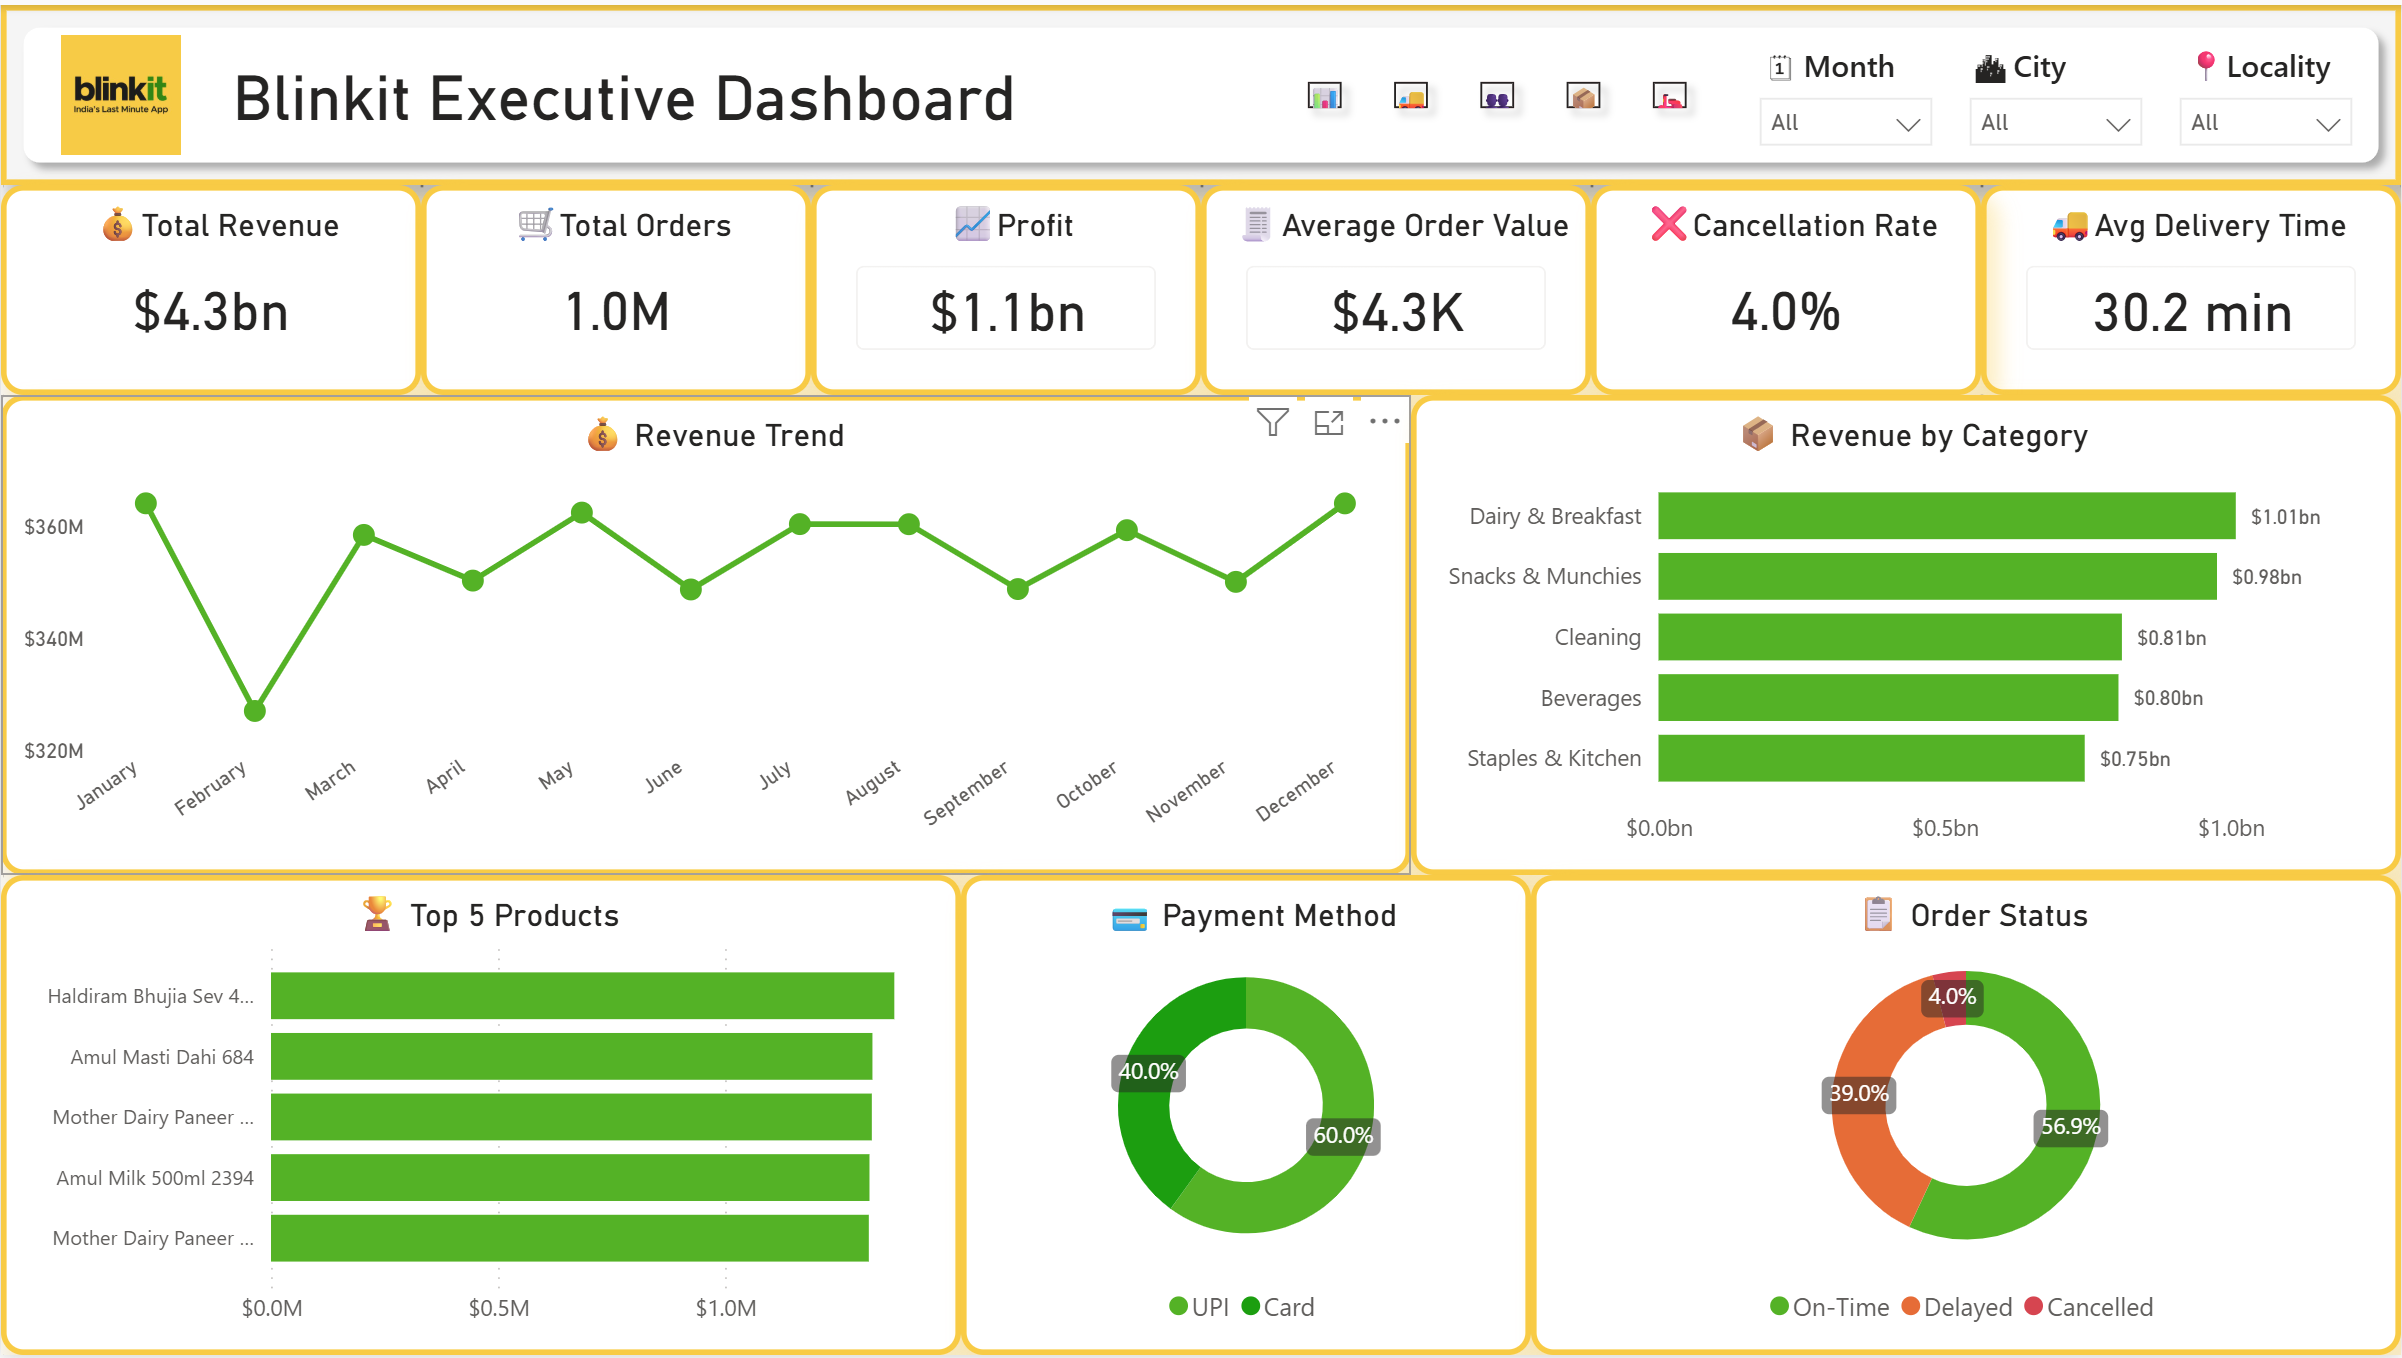

The page's visual inventory and layout, read from the dashboard file:
{"tool":"powerbi","page":{"name":"📊 Executive","canvas":[1280,720],"ordinal":0},"visuals":[{"type":"shape","box":[0,0,1280,96],"z":0},{"type":"textbox","box":[16,16,640,64],"z":1000},{"type":"slicer","fields":{"Values":["Customers.city"]},"box":[1040,16,112,64],"z":2000},{"type":"slicer","fields":{"Values":["Store.locality"]},"box":[1152,16,112,64],"z":3000},{"type":"slicer","fields":{"Values":["Calender.date.Variation.Date Hierarchy.Month"]},"box":[928,16,112,64],"z":4000},{"type":"image","box":[0,16,128,64],"z":5000},{"type":"card","title":"💰Total Revenue","fields":{"Values":["Key_Metrices.Total Revenue"]},"box":[0,96,224,112],"z":6000},{"type":"card","title":"🛒Total Orders","fields":{"Values":["Key_Metrices.Total Orders"]},"box":[224,96,208,112],"z":7000},{"type":"cardVisual","title":"📈Profit","fields":{"Data":["Key_Metrices.Profit"]},"box":[432,96,208,112],"z":8000},{"type":"cardVisual","title":"🚚Avg Delivery Time","fields":{"Data":["Key_Metrices.Average Delivery Time"]},"box":[1056,96,224,112],"z":9000},{"type":"cardVisual","title":"🧾Average Order Value","fields":{"Data":["Key_Metrices.AOV"]},"box":[640,96,208,112],"z":10000},{"type":"card","title":"❌Cancellation Rate","fields":{"Values":["Key_Metrices.Cancellation Rate %"]},"box":[848,96,208,112],"z":11000},{"type":"lineChart","title":"💰 Revenue Trend ","fields":{"Category":["Calender.date.Variation.Date Hierarchy.Month"],"Y":["Key_Metrices.Total Revenue"]},"box":[0,208,752,256],"z":12000},{"type":"clusteredBarChart","title":"📦 Revenue by Category","fields":{"Category":["Products.category"],"Y":["Sum(Order_Items.total_price)"]},"box":[752,208,528,256],"z":13000},{"type":"clusteredBarChart","title":"🏆 Top 5 Products","fields":{"Category":["Products.product_name"],"Y":["Sum(Order_Items.total_price)"]},"box":[0,464,512,256],"z":14000},{"type":"donutChart","title":"💳 Payment Method","fields":{"Category":["Payments.payment_method"],"Y":["Key_Metrices.Total Revenue"]},"box":[512,464,304,256],"z":15000},{"type":"donutChart","title":"📋 Order Status","fields":{"Category":["Orders.delivery_status_category"],"Y":["Key_Metrices.Total Orders"]},"box":[816,464,464,256],"z":16000},{"type":"pageNavigator","box":[688,32,224,32],"z":17000}]}

Visuals, with their boxes in screenshot pixels (x1, y1, x2, y2), scaled from the page's 1280x720 canvas onto the 2402x1358 screenshot:
shape: (0,0,2401,181)
textbox: (30,30,1231,151)
slicer - Customers.city: (1952,30,2162,151)
slicer - Store.locality: (2162,30,2372,151)
slicer - Calender.date.Variation.Date Hierarchy.Month: (1741,30,1952,151)
image: (0,30,240,151)
"💰Total Revenue" card: (0,181,420,392)
"🛒Total Orders" card: (420,181,811,392)
"📈Profit" cardVisual: (811,181,1201,392)
"🚚Avg Delivery Time" cardVisual: (1982,181,2401,392)
"🧾Average Order Value" cardVisual: (1201,181,1591,392)
"❌Cancellation Rate" card: (1591,181,1982,392)
"💰 Revenue Trend " lineChart: (0,392,1411,875)
"📦 Revenue by Category" clusteredBarChart: (1411,392,2401,875)
"🏆 Top 5 Products" clusteredBarChart: (0,875,961,1357)
"💳 Payment Method" donutChart: (961,875,1531,1357)
"📋 Order Status" donutChart: (1531,875,2401,1357)
pageNavigator: (1291,60,1711,121)
